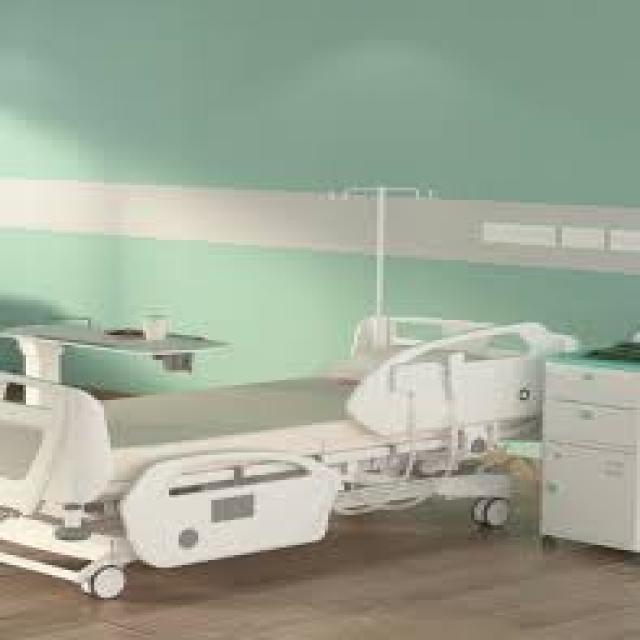patient_bed: (44, 303, 540, 601)
